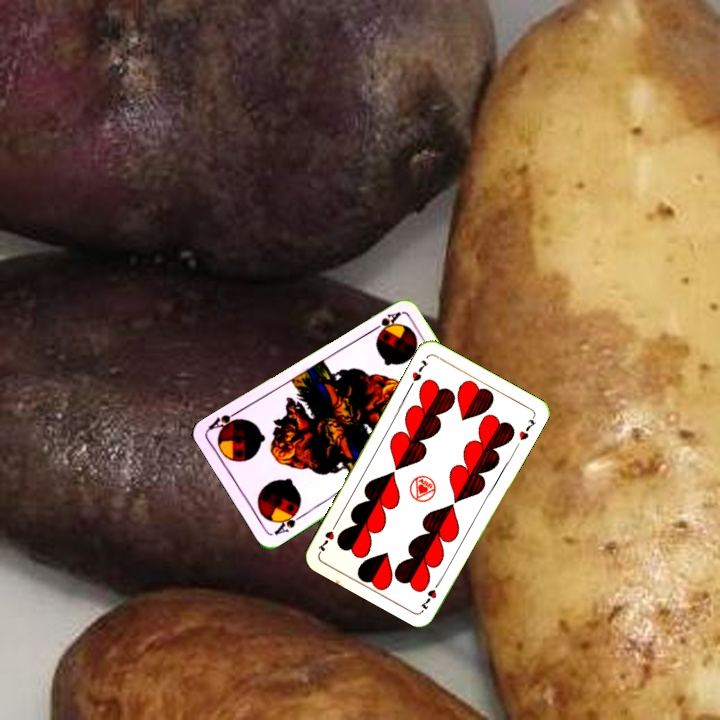H7: (417, 576, 444, 612), (406, 356, 431, 390)
SA: (270, 505, 306, 538), (366, 307, 403, 337)
